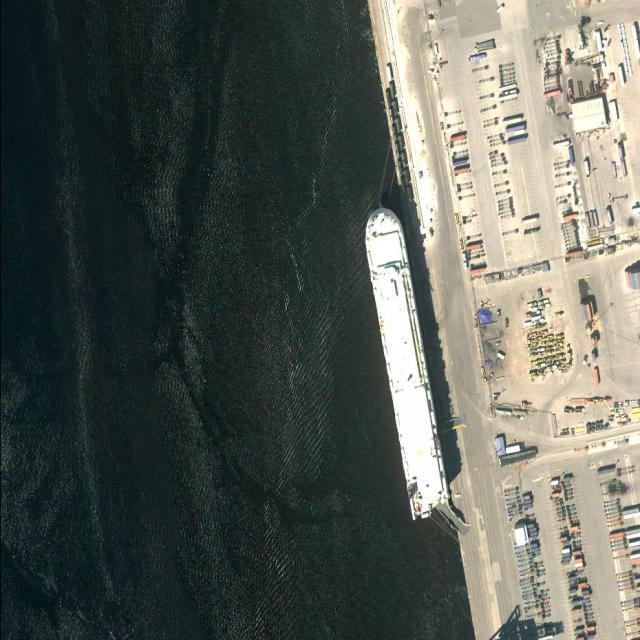RoRo: (356, 199, 456, 528)
